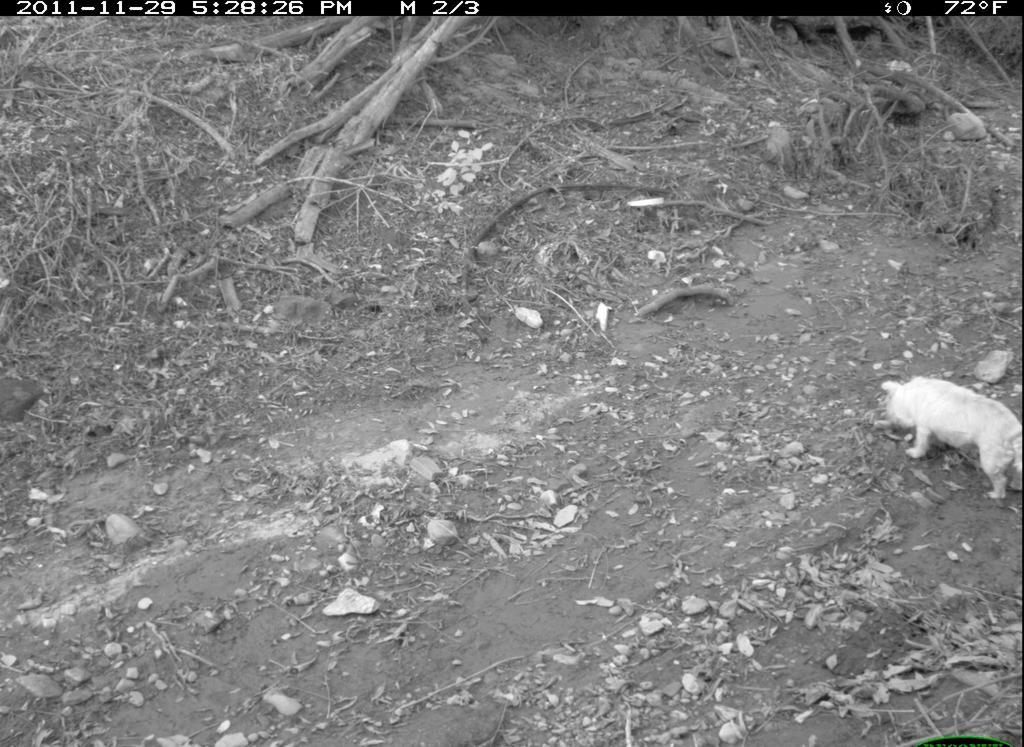dog: (866, 369, 1016, 509)
